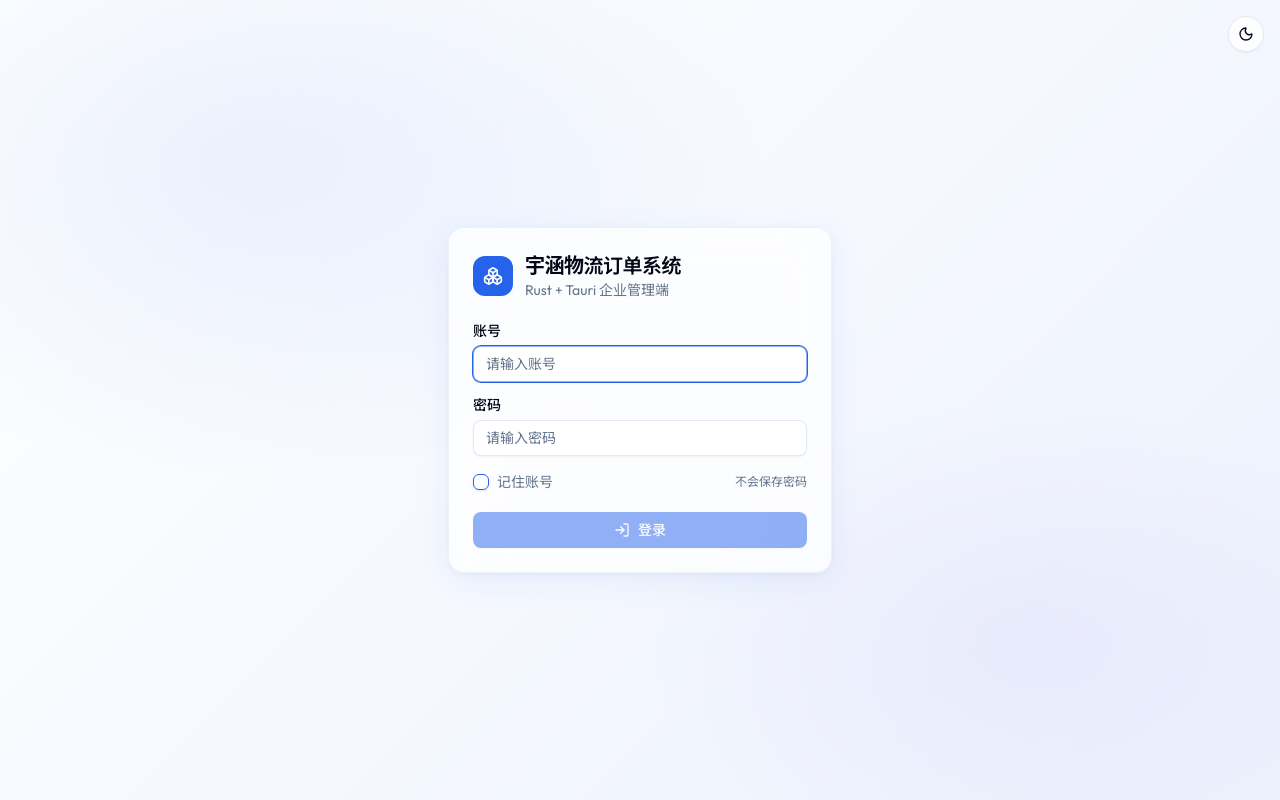
it: Login › keeps submit disabled until account and password are filled
This screenshot has width=1280, height=800.
Expected: the button "登录" is disabled, x1=473 y1=512 x2=807 y2=548
Type "admin" into the field labelled "账号". click: (640, 364)
box: x1=473 y1=346 x2=807 y2=382
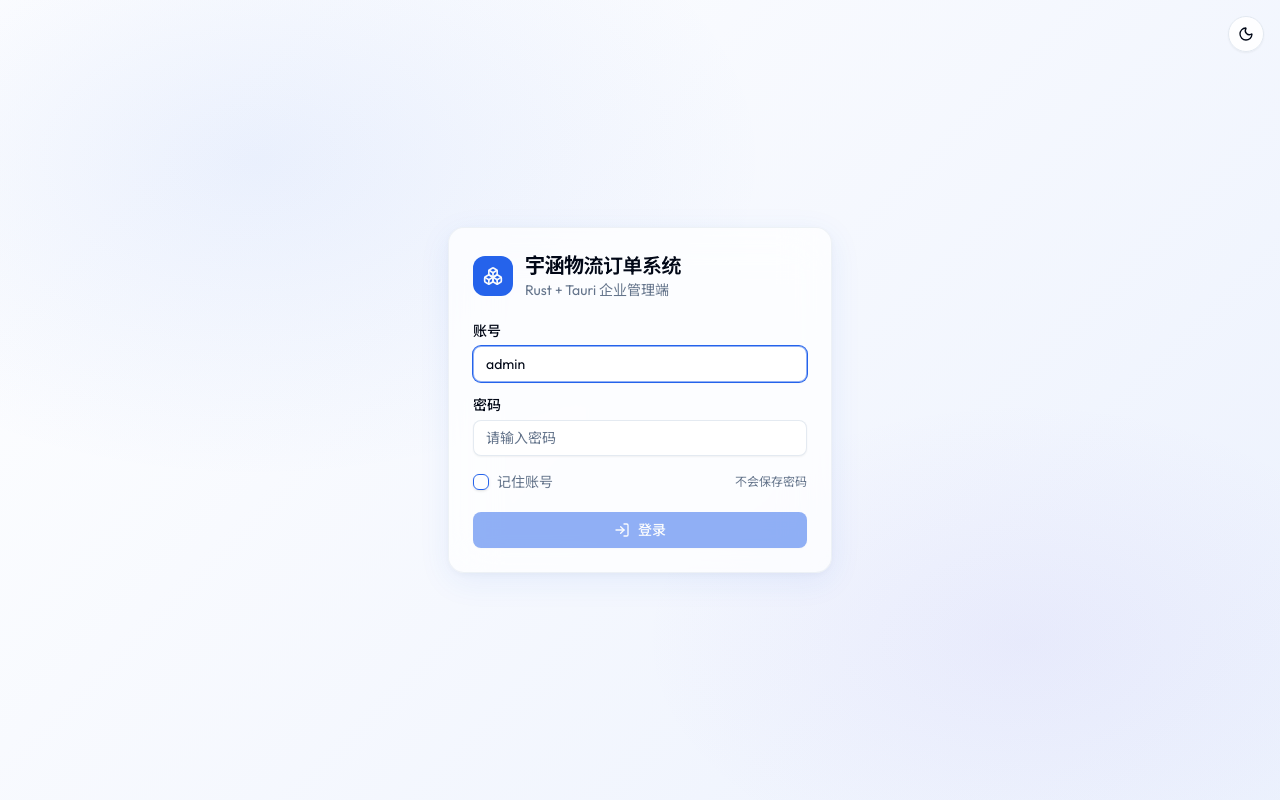
Expected: the button "登录" is disabled, x1=473 y1=512 x2=807 y2=548
Type "secret" into the password field labelled "密码". click: (640, 438)
box: x1=473 y1=420 x2=807 y2=456
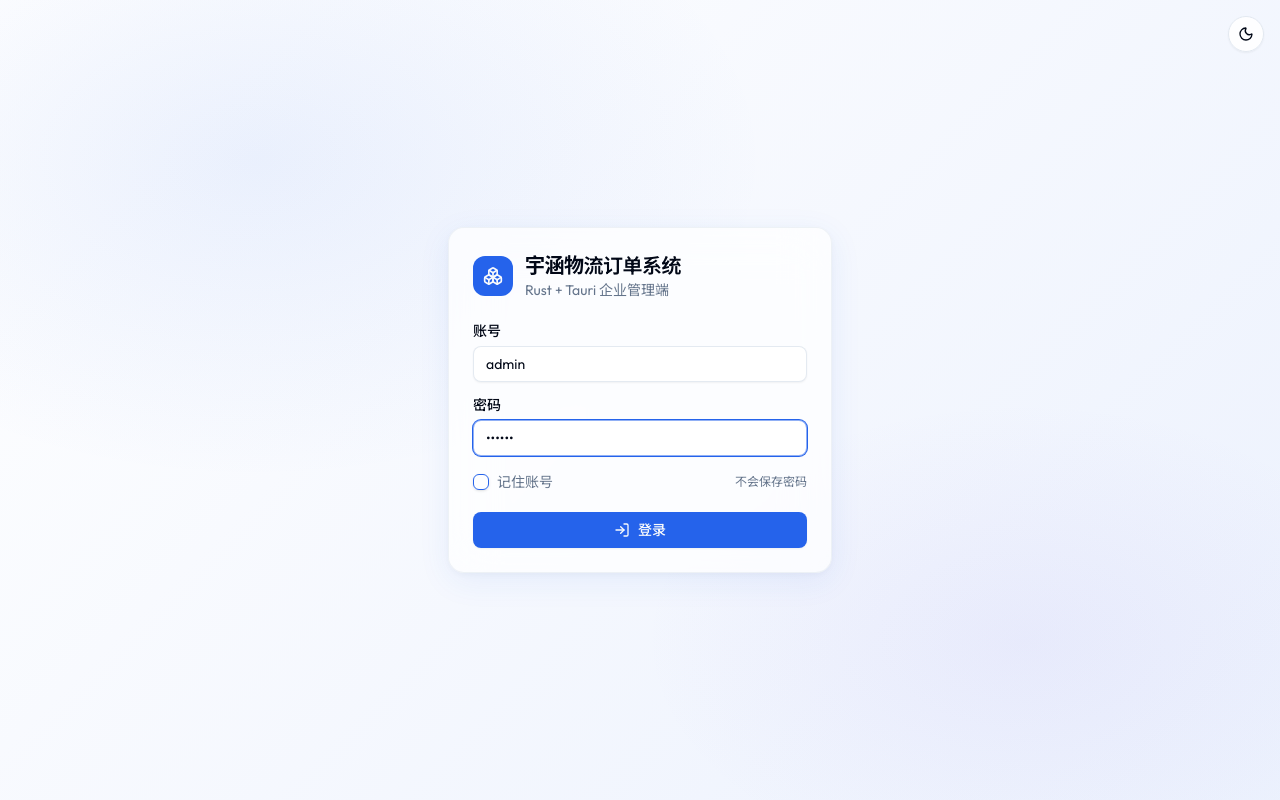
Expected: the button "登录" is enabled, x1=473 y1=512 x2=807 y2=548
